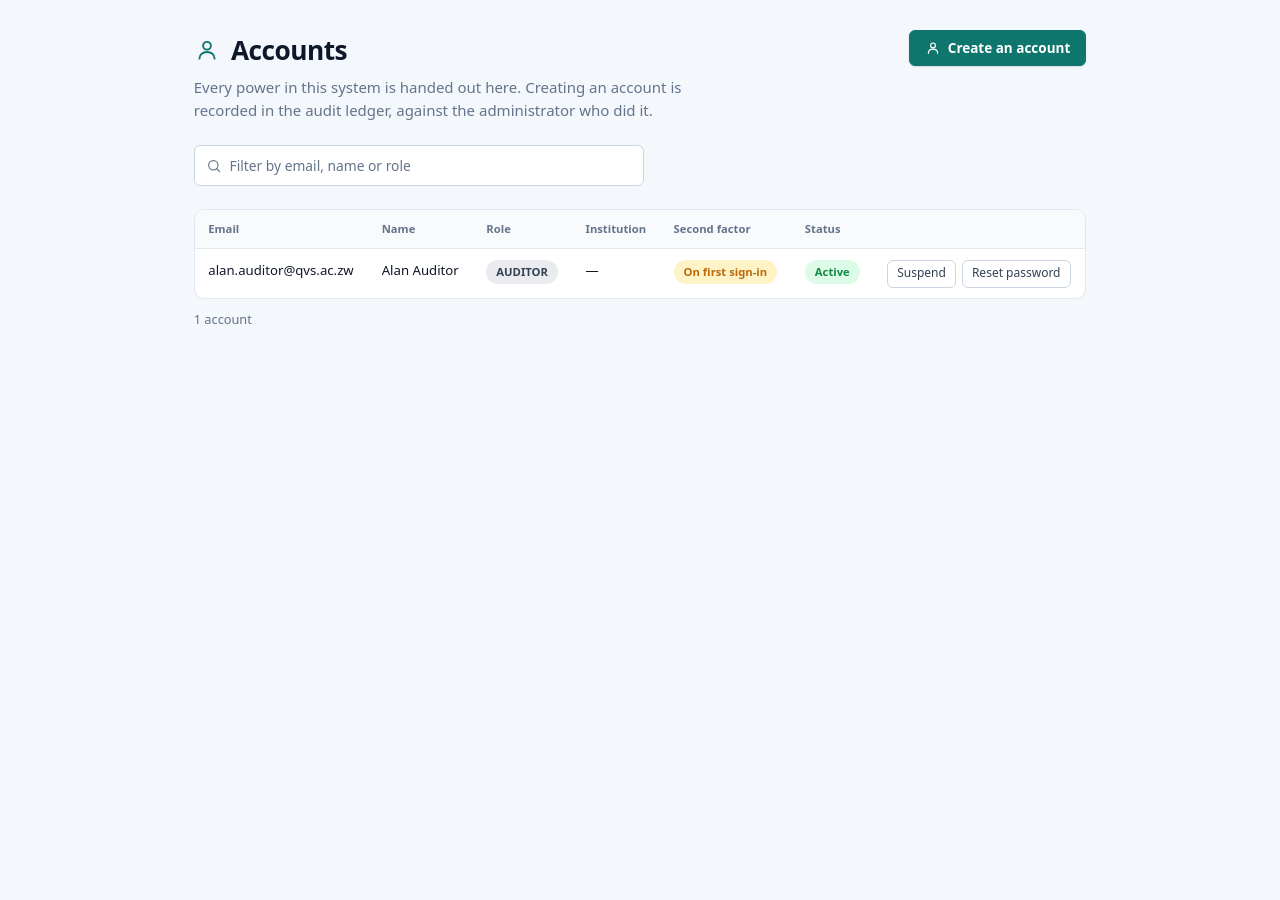
UserListComponent › the row actions › shows the new password once when one is reset
The image size is (1280, 900).
Step 1. Click the button "Reset password" → (1016, 274), box [962,260,1070,288]
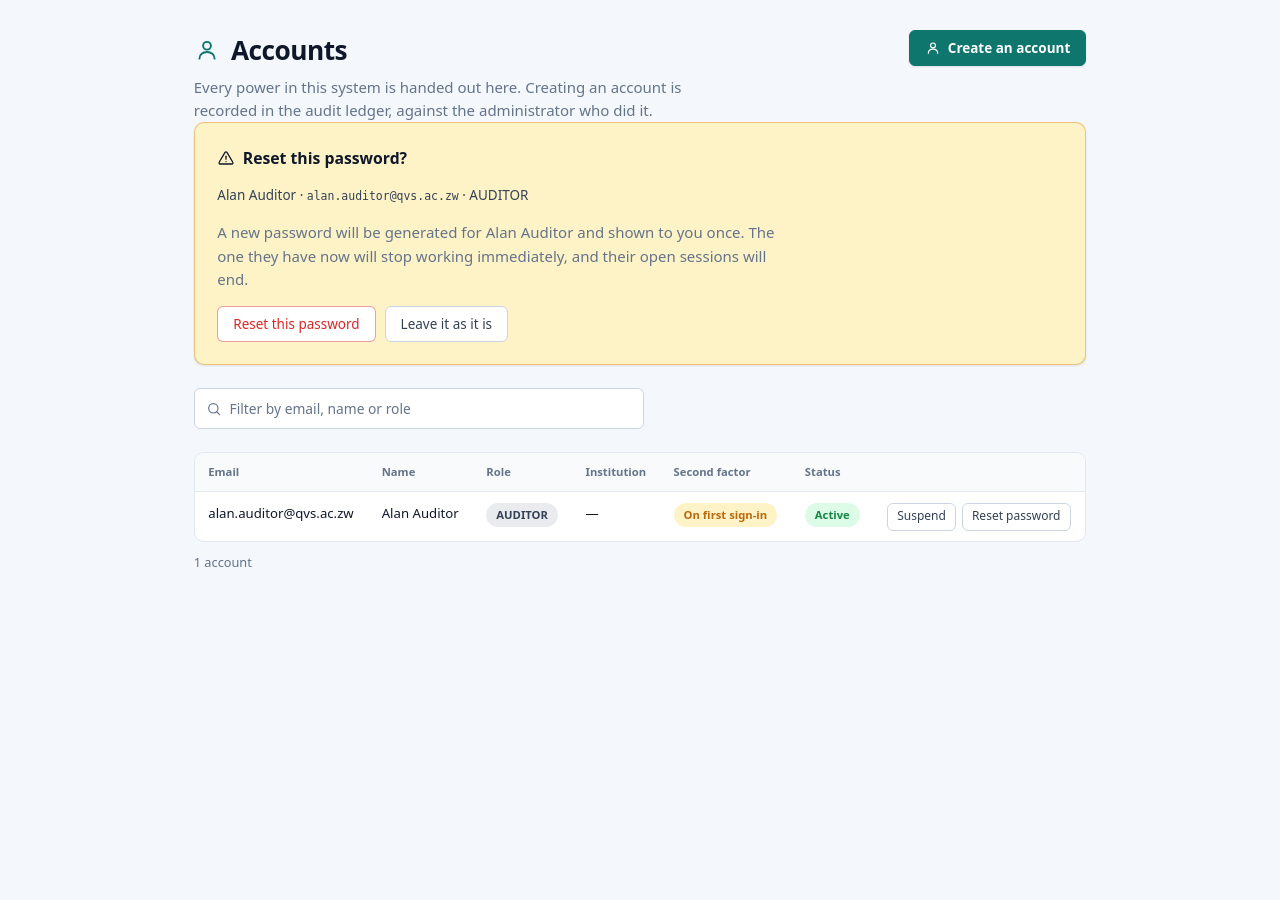
Expected: the text "stop working immediately" is shown, [217,222,775,289]
Step 2. Click the button "Reset this password" → (296, 324), box [217,306,376,342]
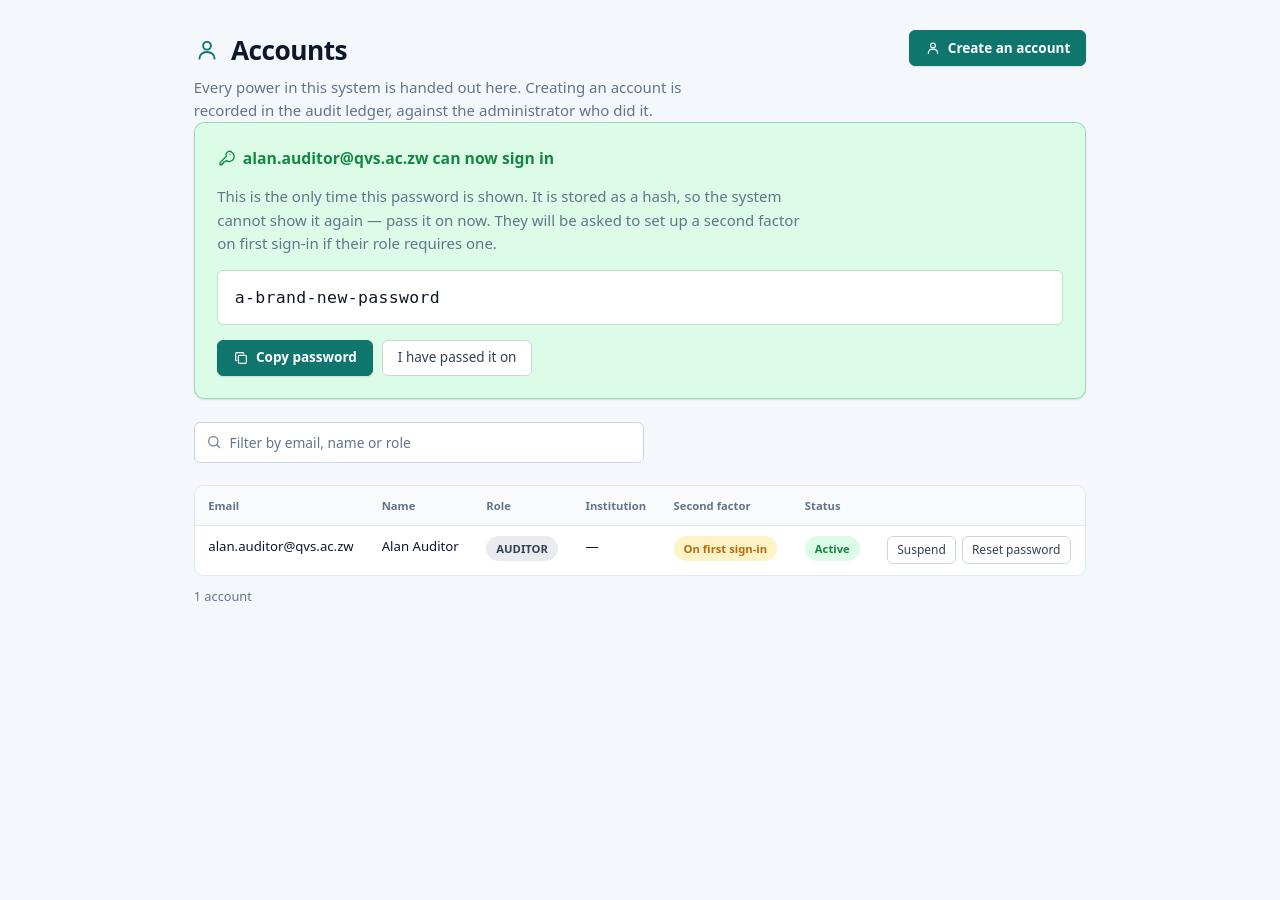
Expected: the text "a-brand-new-password" is shown, [217,270,1063,325]
Expected: the text "only time this password is shown" is shown, [217,186,800,253]
